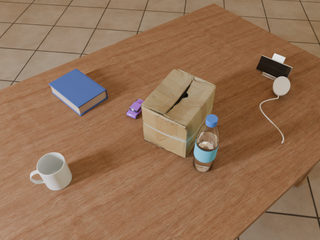book: (49, 69, 108, 116)
bottle: (193, 115, 220, 172)
box: (141, 69, 216, 158)
cup: (30, 153, 72, 190)
mouse: (273, 76, 290, 96)
phone: (256, 55, 292, 78)
toy_car: (127, 99, 144, 119)
